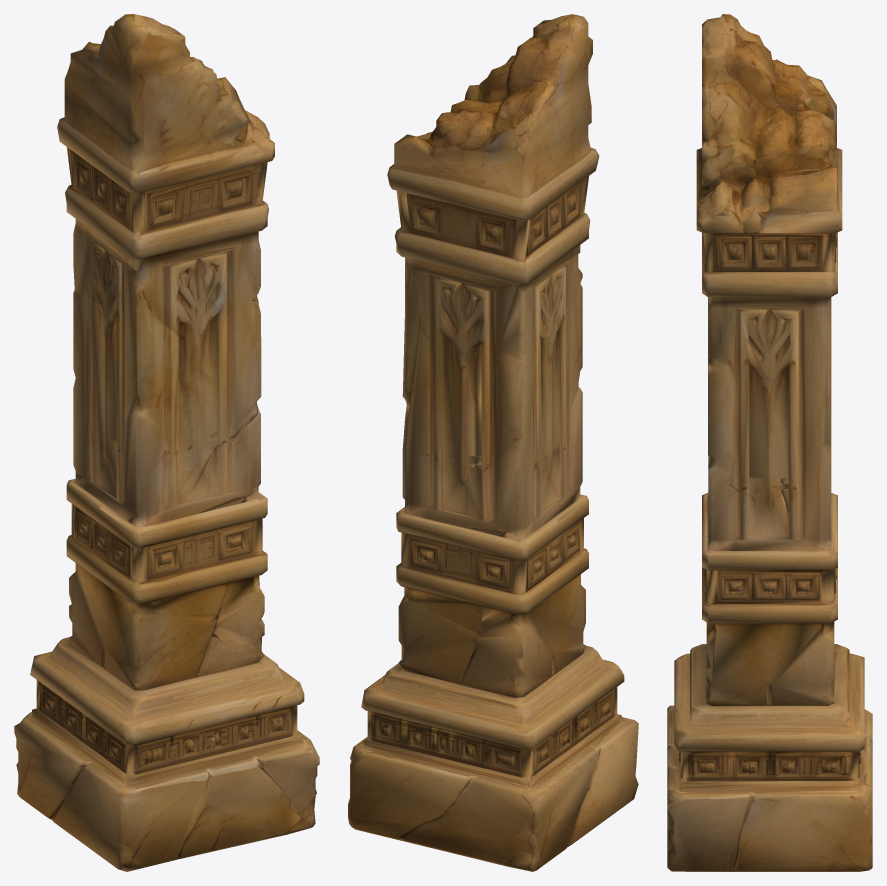
File: pillar.glb
The picture shows the model from 3 angles, left to right: view 1: azimuth 30°, elevation 25°; view 2: azimuth 150°, elevation 25°; view 3: azimuth 270°, elevation 25°; orthographic projection. The views are drawn at different scales.
Parts seen in each view (by area): view 1: material; view 2: material; view 3: material.
Boxes of the visible parts, x1=… form: material: x1=14, y1=14, x2=319, y2=871; material: x1=348, y1=14, x2=638, y2=871; material: x1=667, y1=14, x2=872, y2=871.
Bounding box in the file's own units: 0.4784 × 1.9 × 0.4491.
1 material, 1 textured.
